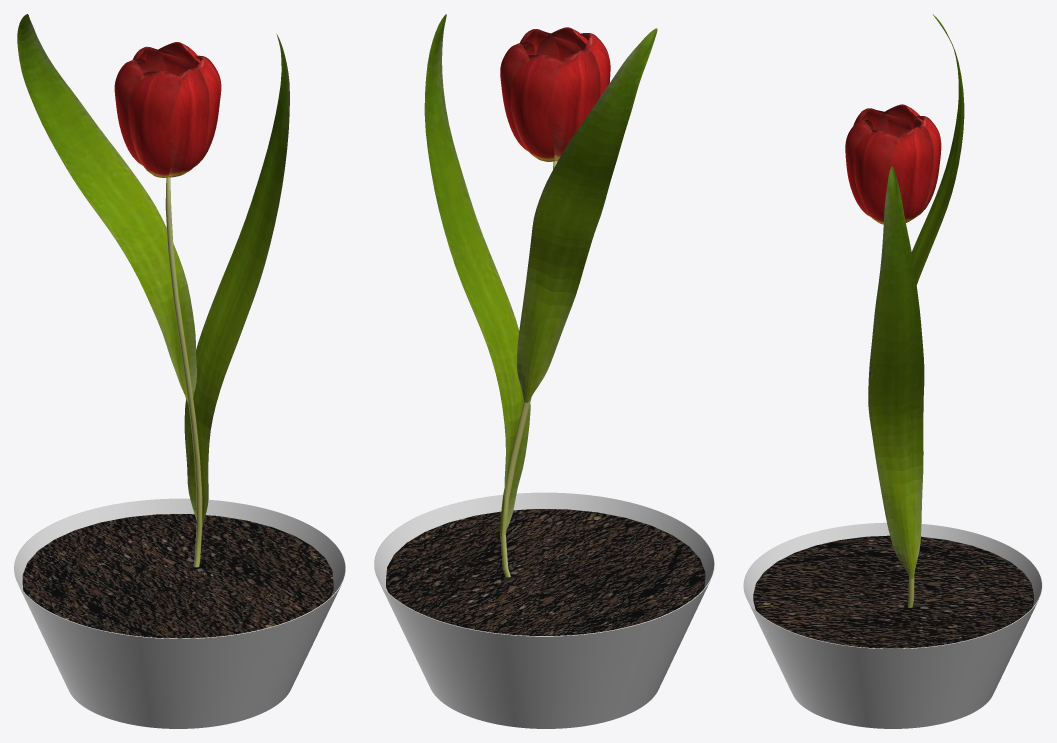
File: Tulipan.glb
The picture shows the model from 3 angles, left to right: view 1: azimuth 30°, elevation 25°; view 2: azimuth 150°, elevation 25°; view 3: azimuth 270°, elevation 25°; orthographic projection. The views are drawn at different scales.
Parts seen in each view (by area): view 1: Tierra, Maceta, Hoja1, Hoja2, Petalo4, Petalo3, Tallo.001, Petalo5, Petalo2, Petalo1, Petalo6; view 2: Tierra, Maceta, Hoja1, Hoja2, Petalo6, Petalo5, Petalo1, Tallo.001, Petalo4, Petalo2, Petalo3; view 3: Tierra, Maceta, Hoja2, Petalo1, Petalo2, Hoja1, Petalo3, Petalo6, Petalo4, Petalo5.
Part boxes in pixels (left/top/right/bottom): Tierra: left=22, top=514, right=333, bottom=638; Maceta: left=14, top=498, right=345, bottom=728; Hoja1: left=17, top=14, right=196, bottom=404; Hoja2: left=184, top=33, right=289, bottom=526; Petalo4: left=128, top=71, right=182, bottom=177; Petalo3: left=167, top=68, right=209, bottom=177; Tallo.001: left=165, top=177, right=202, bottom=567; Petalo5: left=114, top=58, right=147, bottom=165; Petalo2: left=194, top=55, right=221, bottom=166; Petalo1: left=147, top=42, right=200, bottom=71; Petalo6: left=132, top=46, right=193, bottom=75; Tierra: left=386, top=509, right=705, bottom=635; Maceta: left=374, top=492, right=714, bottom=728; Hoja1: left=517, top=28, right=657, bottom=402; Hoja2: left=424, top=14, right=530, bottom=540; Petalo6: left=510, top=55, right=562, bottom=161; Petalo5: left=548, top=50, right=600, bottom=161; Petalo1: left=500, top=42, right=535, bottom=151; Tallo.001: left=500, top=161, right=557, bottom=577; Petalo4: left=577, top=33, right=610, bottom=96; Petalo2: left=520, top=29, right=582, bottom=59; Petalo3: left=536, top=27, right=587, bottom=59; Tierra: left=753, top=535, right=1033, bottom=648; Maceta: left=743, top=522, right=1042, bottom=728; Hoja2: left=868, top=166, right=924, bottom=579; Petalo1: left=890, top=126, right=933, bottom=222; Petalo2: left=853, top=130, right=899, bottom=224; Hoja1: left=911, top=14, right=964, bottom=284; Petalo3: left=845, top=120, right=873, bottom=217; Petalo6: left=914, top=116, right=941, bottom=218; Petalo4: left=853, top=108, right=911, bottom=136; Petalo5: left=875, top=104, right=922, bottom=133.
Bounding box in the file's own units: 5.38 × 12.22 × 5.38.
22 materials, 10 textured.
